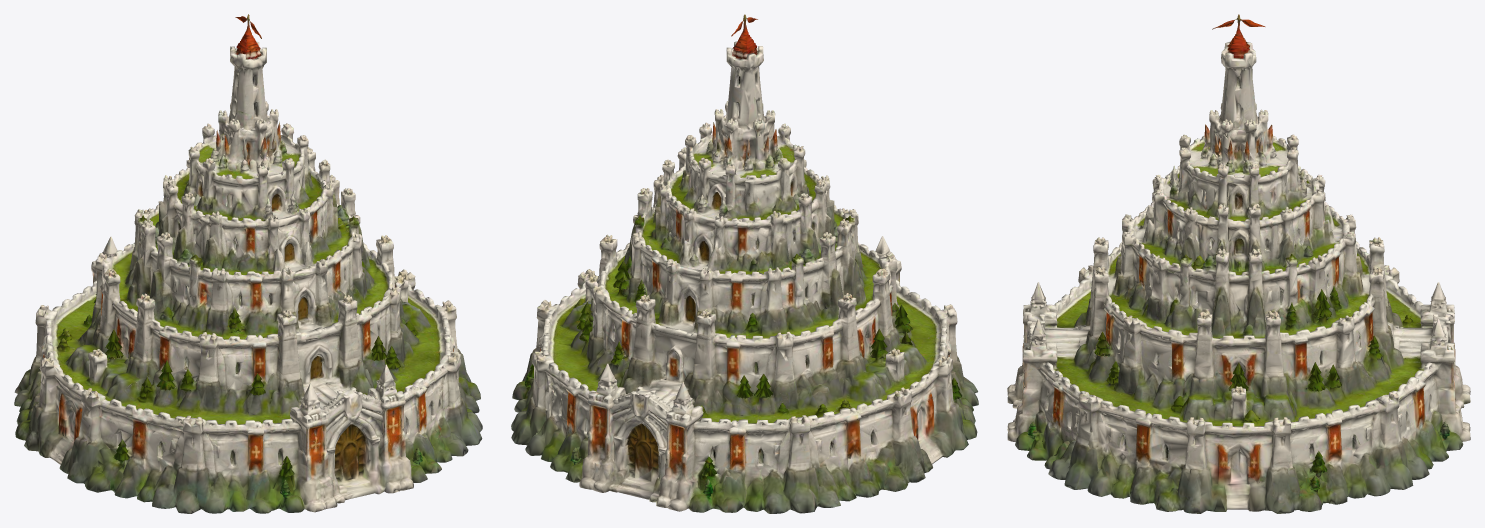
File: minas-tirith.glb
3 views of the same model, side by side, from view 1: azimuth 30°, elevation 25°; view 2: azimuth 150°, elevation 25°; view 3: azimuth 270°, elevation 25° (orthographic).
Bounding box in the file's own units: 1.9 × 1.82 × 1.9.
Materials: 1 (1 with a texture image).
